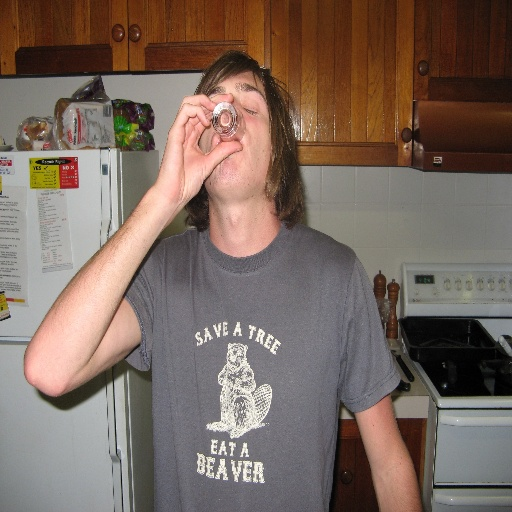hand: (129, 98, 215, 231)
